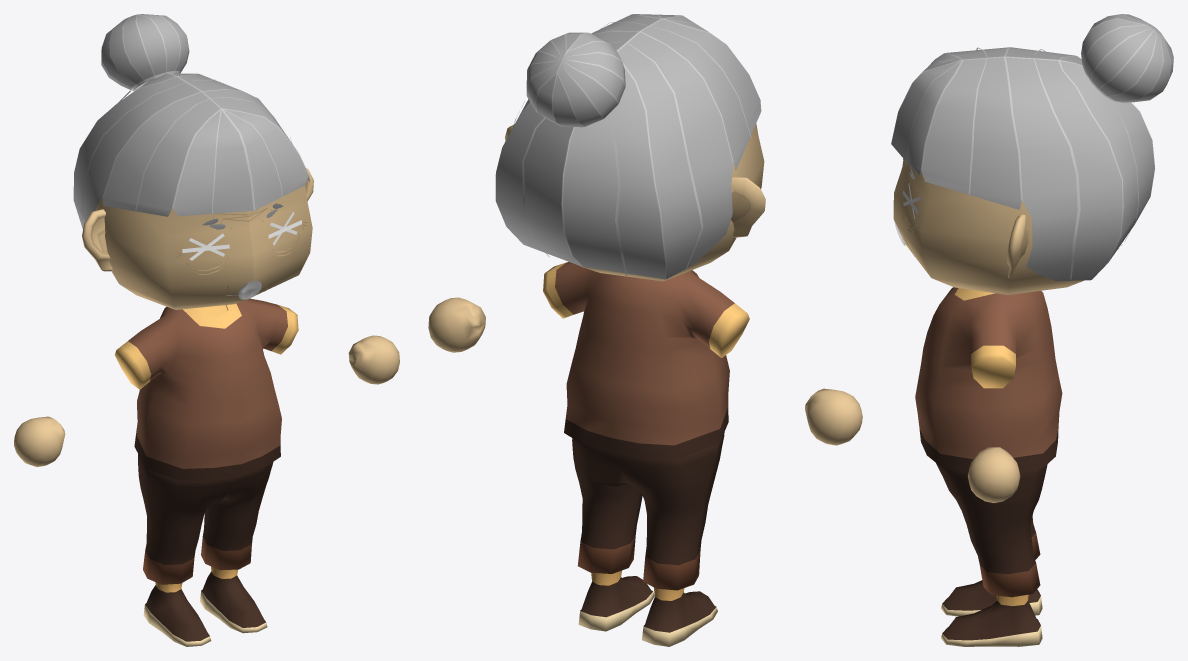
File: granny.fbx
3 renders of one model, left to right at view 1: azimuth 30°, elevation 25°; view 2: azimuth 150°, elevation 25°; view 3: azimuth 270°, elevation 25°, orthographic. The views are drawn at different scales.
Visible parts, largest first — view 1: Granny_head, Granny_body, Granny_hands_left, Granny_hands_right, Granny_head_knockout; view 2: Granny_head, Granny_body, Granny_hands_left, Granny_hands_right; view 3: Granny_head, Granny_body, Granny_hands_right.
Boxes of the visible parts, x1,y1,x2,y2 form: Granny_head: (73, 14, 313, 309); Granny_body: (115, 298, 298, 646); Granny_hands_left: (14, 416, 65, 466); Granny_hands_right: (348, 335, 399, 384); Granny_head_knockout: (189, 203, 297, 299); Granny_head: (495, 14, 765, 281); Granny_body: (543, 262, 749, 646); Granny_hands_left: (805, 388, 862, 445); Granny_hands_right: (428, 297, 485, 352); Granny_head: (891, 14, 1173, 294); Granny_body: (915, 287, 1062, 646); Granny_hands_right: (967, 447, 1020, 502).
Size of the model in its own units: 1.49 by 2.11 by 0.8915.
